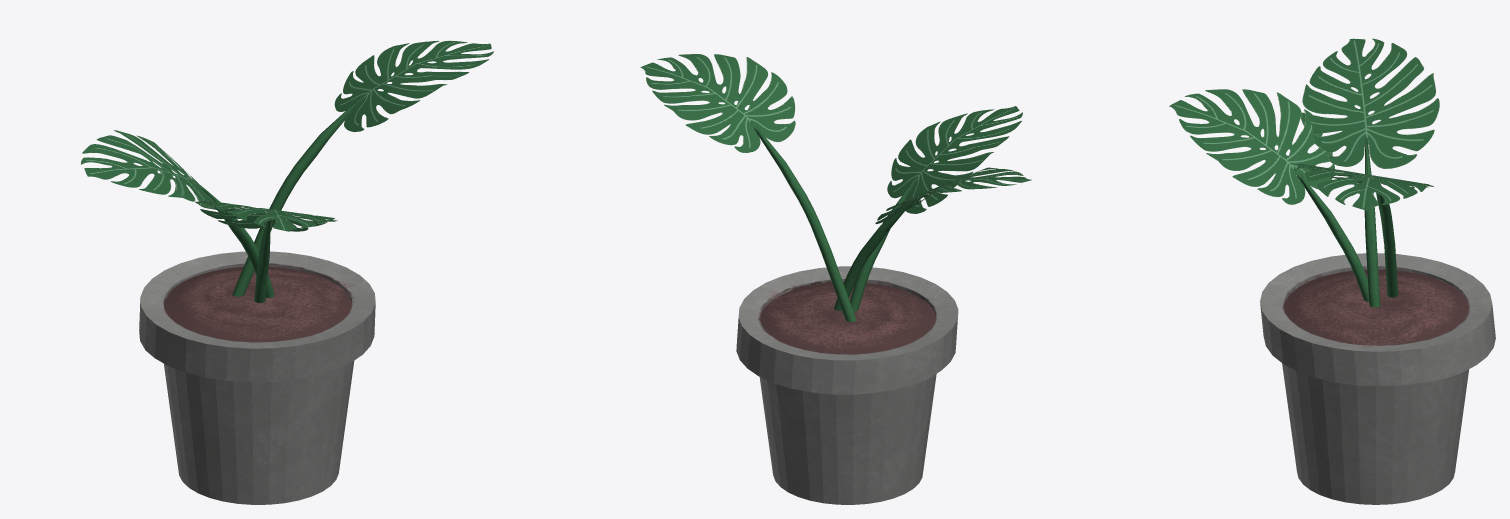
Rendered from plant.obj.
The picture shows the model from 3 angles, left to right: view 1: azimuth 30°, elevation 25°; view 2: azimuth 150°, elevation 25°; view 3: azimuth 270°, elevation 25°; orthographic projection. The views are drawn at different scales.
Visible parts, largest first — view 1: Circle, Plane.001, Plane.004_Plane.005, Plane.002_Plane.006; view 2: Circle, Plane.001, Plane.002_Plane.006, Plane.004_Plane.005; view 3: Circle, Plane.004_Plane.005, Plane.002_Plane.006, Plane.001.
Part boxes in pixels (<box>): Circle: <box>139,251,375,504</box>; Plane.001: <box>232,40,493,296</box>; Plane.004_Plane.005: <box>80,130,274,297</box>; Plane.002_Plane.006: <box>195,200,337,302</box>; Circle: <box>736,266,958,504</box>; Plane.001: <box>640,54,856,321</box>; Plane.002_Plane.006: <box>850,106,1022,311</box>; Plane.004_Plane.005: <box>834,167,1031,310</box>; Circle: <box>1260,253,1495,504</box>; Plane.004_Plane.005: <box>1301,38,1439,307</box>; Plane.002_Plane.006: <box>1169,89,1369,301</box>; Plane.001: <box>1296,164,1433,297</box>.
Size of the model in its own units: 8.92 by 7.42 by 6.71.
Materials: 2 (2 with a texture image).
